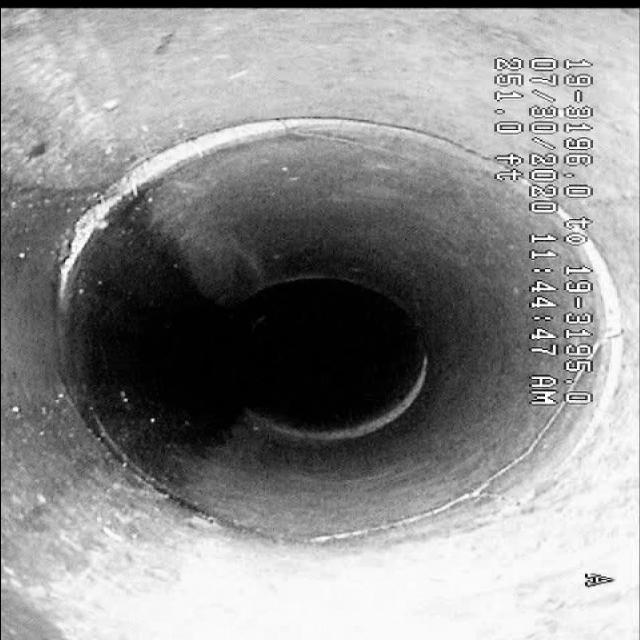Crack: (320, 423, 586, 563)
